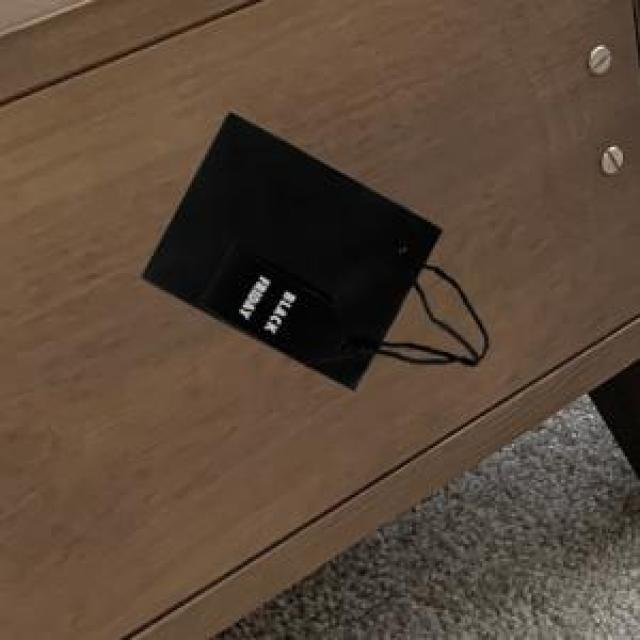paper: (137, 109, 484, 386)
